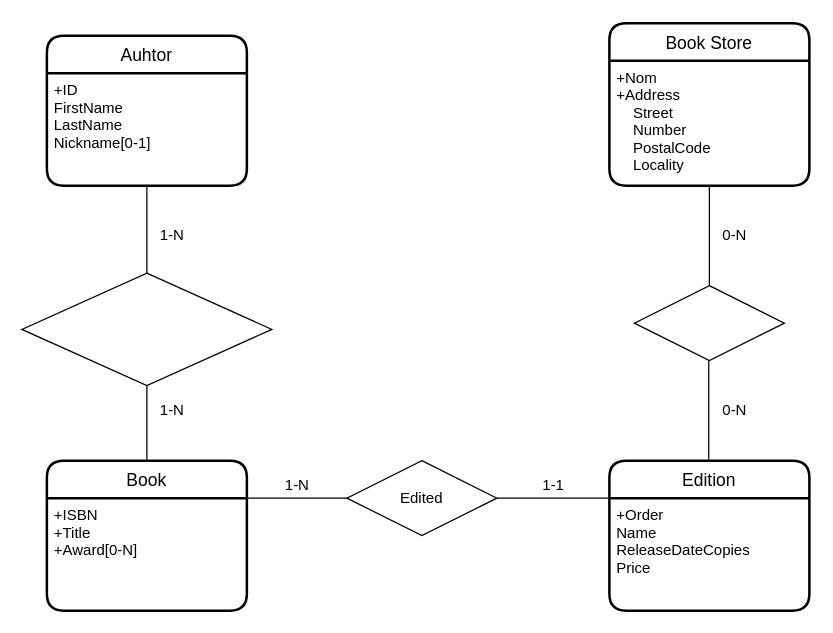
This 833x633 diagram has some shape labels left out. The centre of each missing label's shape, as x and y in pixels:
Copywrite Revenue Year Amount: the point at 146,329
Order: the point at 708,322
